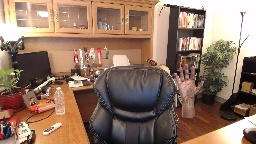Mano_aperta: (171, 62, 206, 98)
